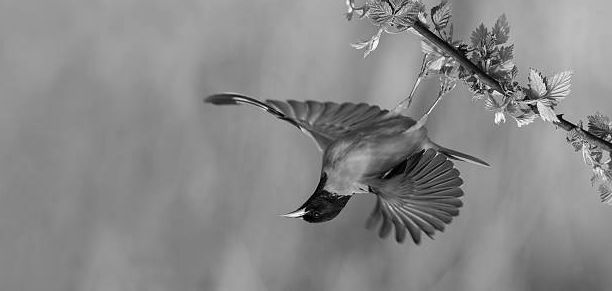Bird: (204, 52, 493, 249)
